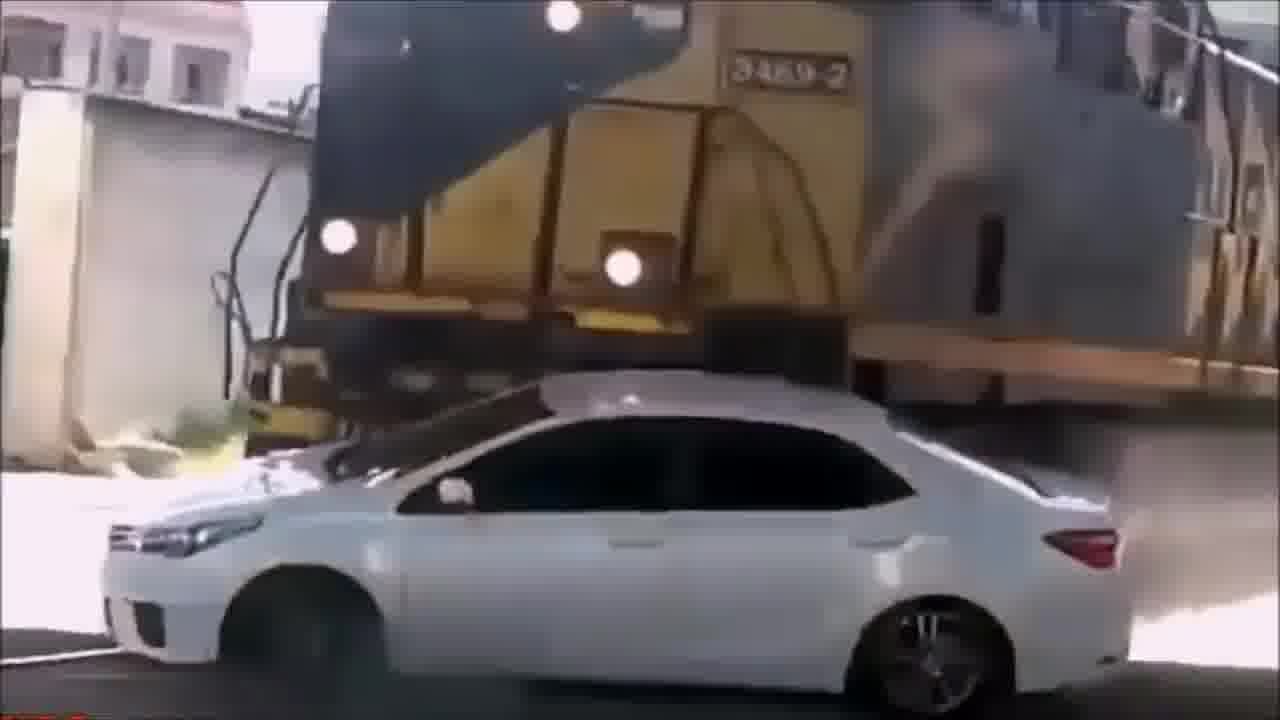crossing railway track: (89, 335, 1147, 720)
